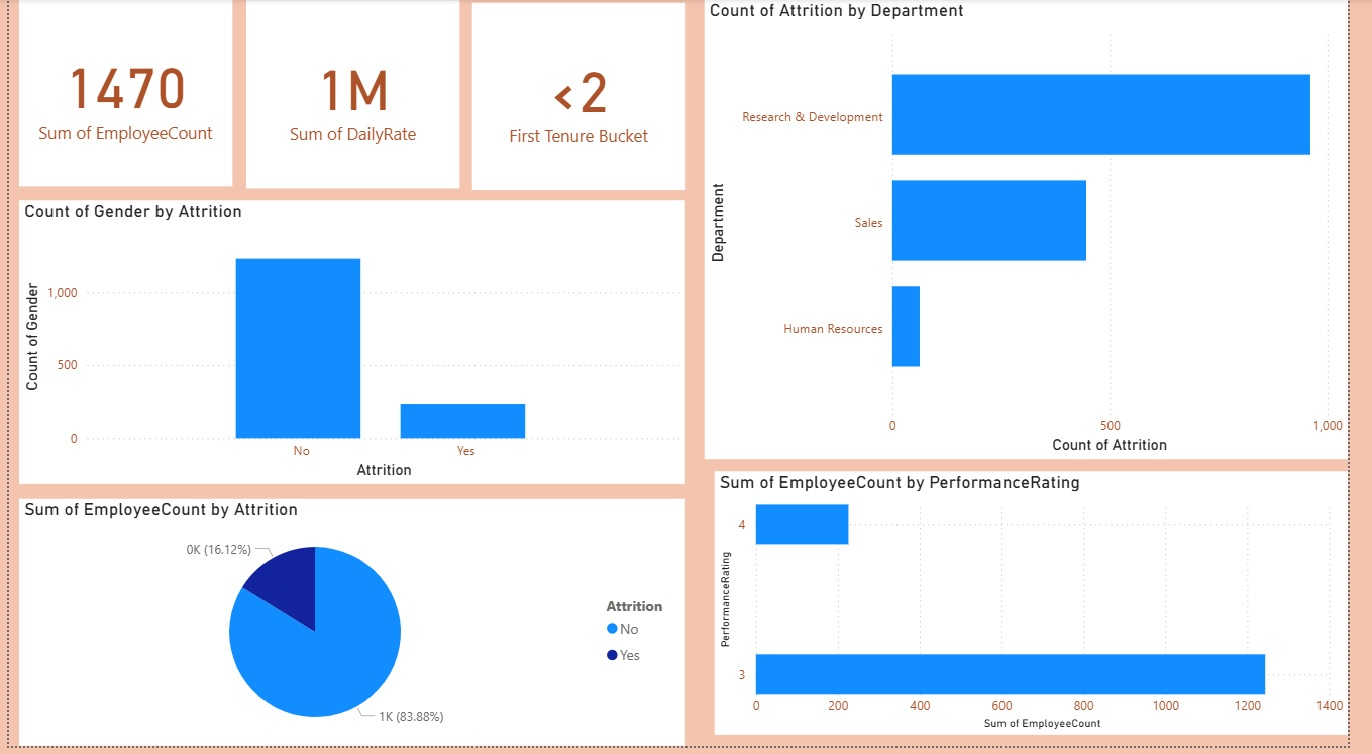

Layout of this report page (visuals, bound fields, positions):
{"tool":"powerbi","page":{"name":"Page 1","canvas":[1280,720],"ordinal":0},"visuals":[{"type":"card","fields":{"Values":["Sum(WA_Fn-UseC_-HR-Employee-Attrition (2).EmployeeCount)"]},"box":[9.9,0,203.7,180.5],"z":0},{"type":"card","fields":{"Values":["Sum(WA_Fn-UseC_-HR-Employee-Attrition (2).DailyRate)"]},"box":[227.1,1.4,204.3,181.4],"z":1},{"type":"card","fields":{"Values":["Min(WA_Fn-UseC_-HR-Employee-Attrition (2).Tenure Bucket)"]},"box":[442.2,3.3,203.7,180.5],"z":2},{"type":"barChart","fields":{"Category":["WA_Fn-UseC_-HR-Employee-Attrition (2).Department"],"Y":["CountNonNull(WA_Fn-UseC_-HR-Employee-Attrition (2).Attrition)"]},"box":[664.3,0,615.7,442.9],"z":3},{"type":"columnChart","fields":{"Category":["WA_Fn-UseC_-HR-Employee-Attrition (2).Attrition"],"Y":["CountNonNull(WA_Fn-UseC_-HR-Employee-Attrition (2).Gender)"]},"box":[10,194.3,637.1,272.9],"z":4},{"type":"pieChart","fields":{"Category":["WA_Fn-UseC_-HR-Employee-Attrition (2).Attrition"],"Y":["Sum(WA_Fn-UseC_-HR-Employee-Attrition (2).EmployeeCount)"]},"box":[10,481.4,637.1,238.6],"z":5},{"type":"barChart","fields":{"Y":["Sum(WA_Fn-UseC_-HR-Employee-Attrition (2).EmployeeCount)"],"Category":["WA_Fn-UseC_-HR-Employee-Attrition (2).PerformanceRating"]},"box":[674.3,454.3,605.7,254.3],"z":6}]}

Visuals, with their boxes in screenshot pixels (x1, y1, x2, y2), scaled from the page's 1280x720 canvas onto the 1372x754 screenshot:
card - Sum(WA_Fn-UseC_-HR-Employee-Attrition (2).EmployeeCount): Rect(11, 0, 229, 189)
card - Sum(WA_Fn-UseC_-HR-Employee-Attrition (2).DailyRate): Rect(243, 1, 462, 191)
card - Min(WA_Fn-UseC_-HR-Employee-Attrition (2).Tenure Bucket): Rect(474, 3, 692, 192)
barChart - WA_Fn-UseC_-HR-Employee-Attrition (2).Department x CountNonNull(WA_Fn-UseC_-HR-Employee-Attrition (2).Attrition): Rect(712, 0, 1371, 464)
columnChart - WA_Fn-UseC_-HR-Employee-Attrition (2).Attrition x CountNonNull(WA_Fn-UseC_-HR-Employee-Attrition (2).Gender): Rect(11, 203, 694, 489)
pieChart - WA_Fn-UseC_-HR-Employee-Attrition (2).Attrition x Sum(WA_Fn-UseC_-HR-Employee-Attrition (2).EmployeeCount): Rect(11, 504, 694, 753)
barChart - Sum(WA_Fn-UseC_-HR-Employee-Attrition (2).EmployeeCount) x WA_Fn-UseC_-HR-Employee-Attrition (2).PerformanceRating: Rect(723, 476, 1371, 742)
